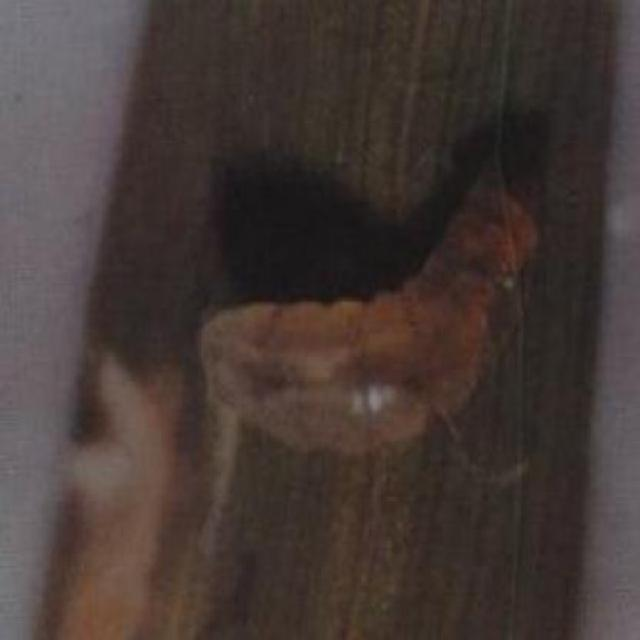whorl-maggot: (197, 177, 541, 465)
